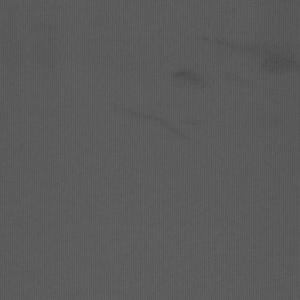Stain: (201, 35, 300, 81), (1, 102, 82, 122), (171, 65, 210, 93)
Wrinkle: (112, 98, 198, 149)
